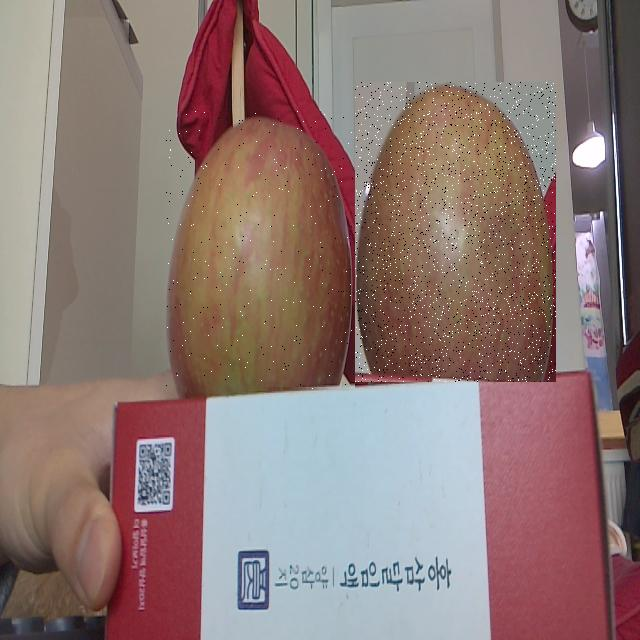apple: (355, 82, 556, 382), (166, 112, 355, 390)
